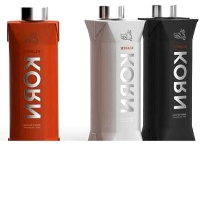carton: (73, 2, 145, 144), (137, 1, 205, 143), (3, 5, 64, 144)
